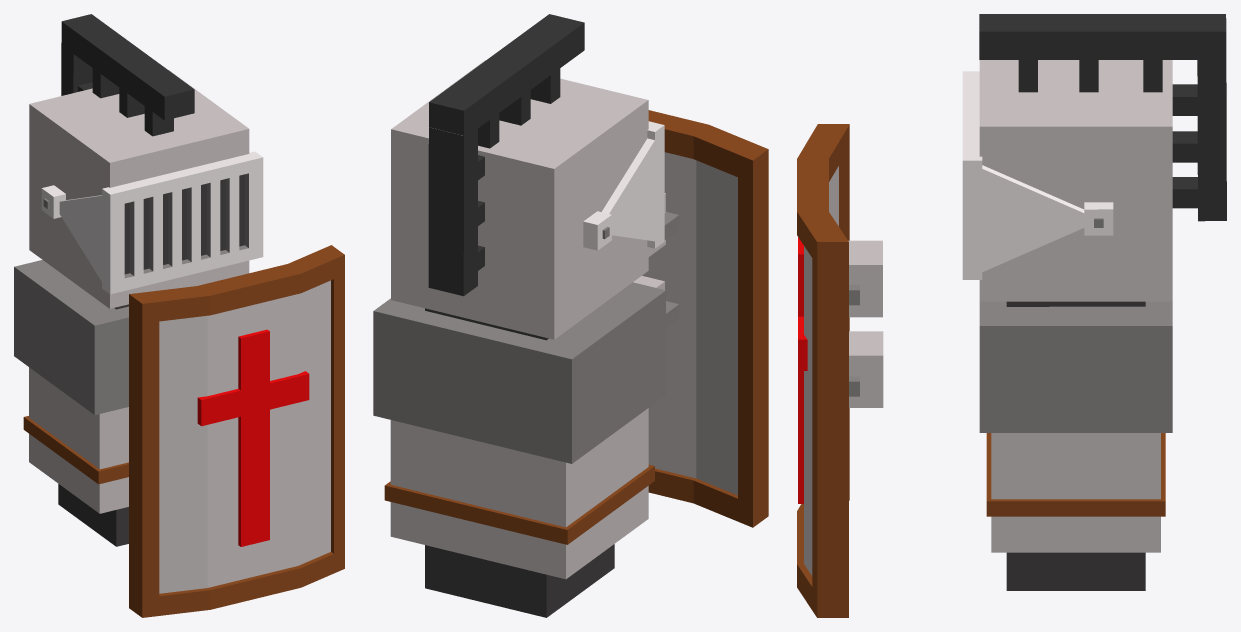
The model's file is tate.obj.
3 views of the same model, side by side, from view 1: azimuth 30°, elevation 25°; view 2: azimuth 150°, elevation 25°; view 3: azimuth 270°, elevation 25° (orthographic). The views are drawn at different scales.
Parts seen in each view (by area): view 1: 立方体.002, 立方体.001, 立方体.002_立方体.010, 立方体.009_立方体.016, 立方体.005, 立方体.008_立方体.009, 立方体, 立方体.003_立方体.011, Cube.001, 立方体.007_立方体.015, 立方体.005_立方体.013; view 2: 立方体.002, 立方体.001, 立方体.009_立方体.016, 立方体, 立方体.008_立方体.009, Cube.001, 立方体.007_立方体.015, 立方体.003_立方体.011, 立方体.002_立方体.010, 立方体.005_立方体.013; view 3: 立方体.001, 立方体.009_立方体.016, 立方体.002, 立方体.008_立方体.009, 立方体, 立方体.004_立方体.012, Cube.001, 立方体.002_立方体.010, 立方体.007_立方体.015, 立方体.011_立方体.018, 立方体.010_立方体.017, 立方体.005 (+1 smaller).
Boxes of the visible parts, x1,y1,x2,y2 form: 立方体.002: (129, 245, 344, 617); 立方体.001: (29, 70, 249, 308); 立方体.002_立方体.010: (102, 151, 263, 294); 立方体.009_立方体.016: (14, 260, 128, 414); 立方体.005: (197, 329, 309, 546); 立方体.008_立方体.009: (61, 14, 194, 136); 立方体: (29, 367, 128, 513); 立方体.003_立方体.011: (59, 195, 101, 281); Cube.001: (58, 304, 128, 546); 立方体.007_立方体.015: (23, 416, 128, 484); 立方体.005_立方体.013: (41, 185, 65, 218); 立方体.002: (642, 110, 768, 527); 立方体.001: (391, 60, 648, 339); 立方体.009_立方体.016: (373, 282, 665, 463); 立方体: (390, 408, 648, 579); 立方体.008_立方体.009: (428, 14, 584, 296); Cube.001: (425, 308, 614, 617); 立方体.007_立方体.015: (384, 464, 654, 544); 立方体.003_立方体.011: (602, 138, 654, 241); 立方体.002_立方体.010: (647, 121, 664, 248); 立方体.005_立方体.013: (583, 211, 611, 250); 立方体.001: (979, 60, 1172, 301); 立方体.009_立方体.016: (979, 301, 1172, 432); 立方体.002: (797, 124, 849, 617); 立方体.008_立方体.009: (979, 14, 1226, 221); 立方体: (991, 433, 1160, 552); 立方体.004_立方体.012: (982, 165, 1084, 271); Cube.001: (1006, 301, 1145, 590); 立方体.002_立方体.010: (962, 71, 982, 279); 立方体.007_立方体.015: (986, 433, 1165, 516); 立方体.011_立方体.018: (849, 331, 883, 407); 立方体.010_立方体.017: (848, 240, 882, 317); 立方体.005: (798, 237, 807, 503).
Size of the model in its own units: 2.9 by 6.16 by 4.46.
